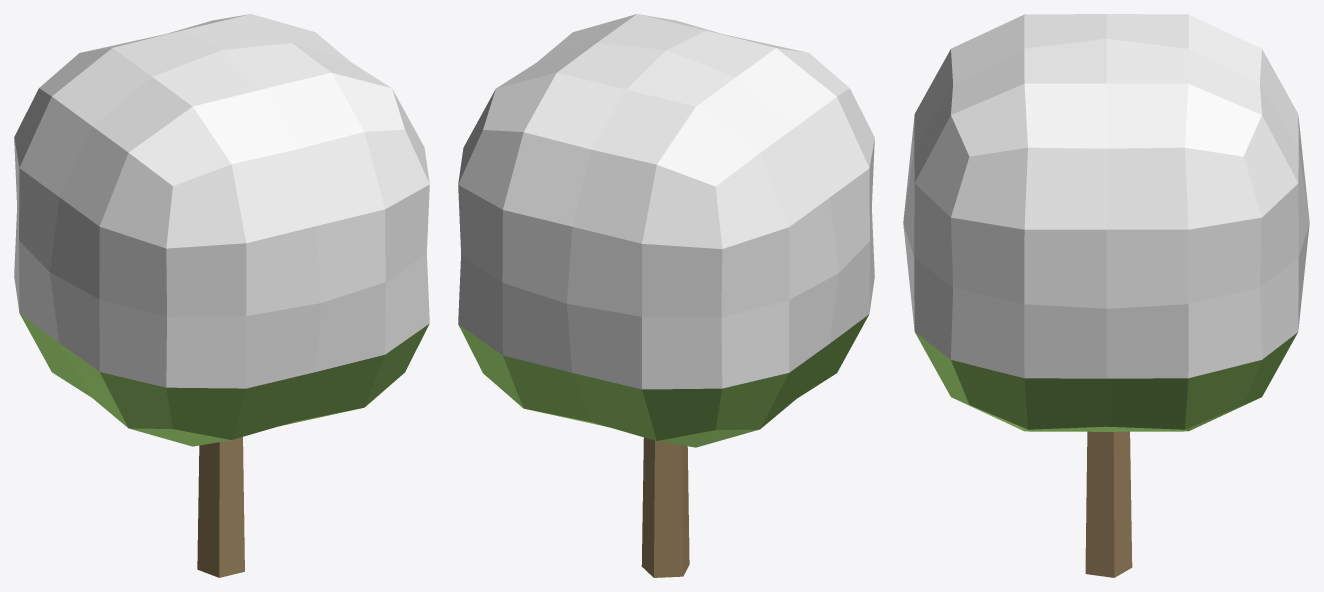
Rendered from Thuja_Tree_s_Snow_BT_06.fbx.
3 renders of one model, left to right at view 1: azimuth 30°, elevation 25°; view 2: azimuth 150°, elevation 25°; view 3: azimuth 270°, elevation 25°, orthographic. The views are drawn at different scales.
Parts seen in each view (by area): view 1: Thuja_Tree_s_Snow_BT_06; view 2: Thuja_Tree_s_Snow_BT_06; view 3: Thuja_Tree_s_Snow_BT_06.
Boxes of the visible parts, x1,y1,x2,y2 form: Thuja_Tree_s_Snow_BT_06: (14, 14, 429, 577); Thuja_Tree_s_Snow_BT_06: (458, 14, 874, 577); Thuja_Tree_s_Snow_BT_06: (903, 14, 1309, 577).
Size of the model in its own units: 176 by 252 by 176.
